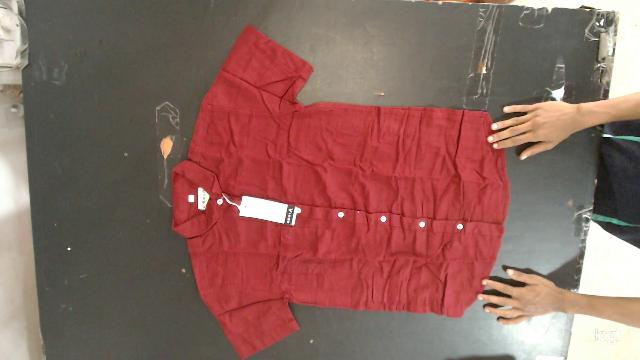new-garment: (172, 25, 509, 358)
